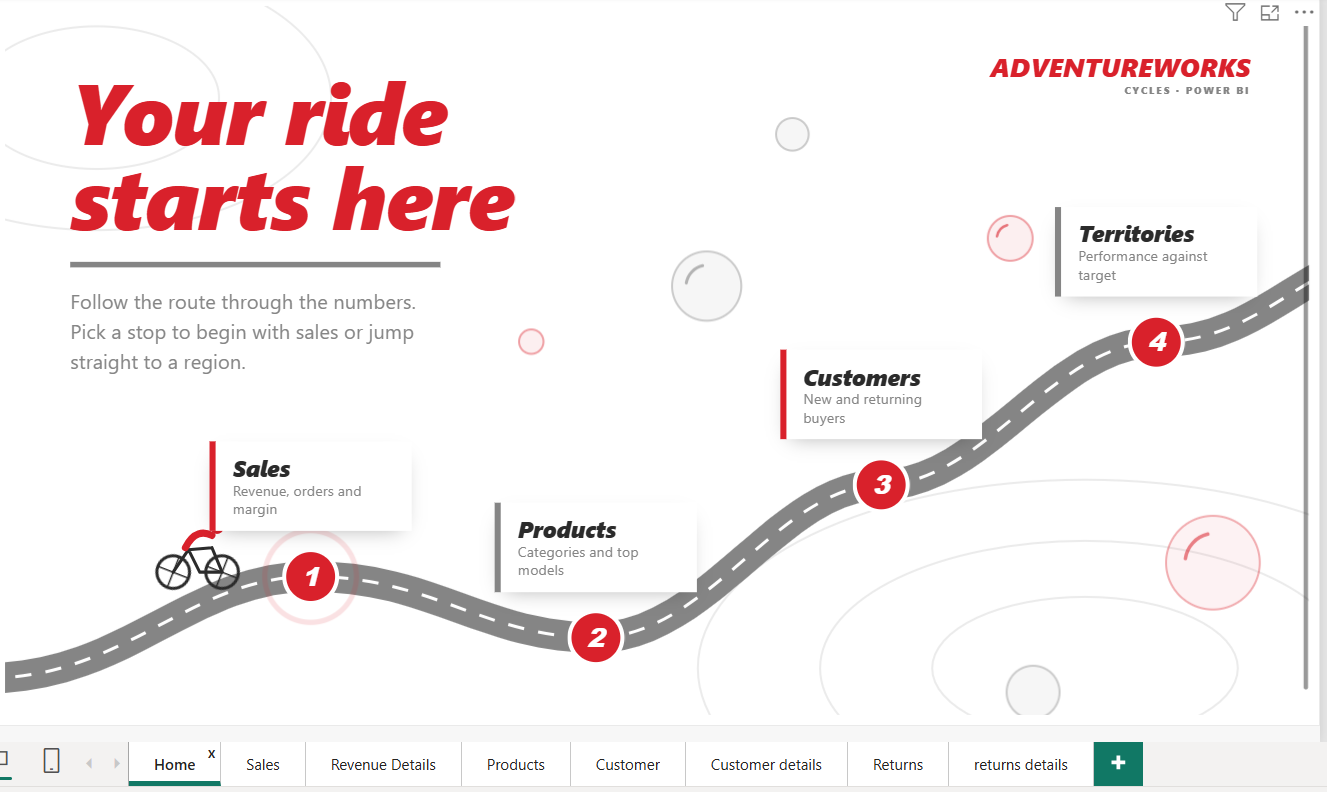

The dashboard page shown, as its layout file describes it:
{"tool":"powerbi","page":{"name":"Home","canvas":[1920,1080],"ordinal":0},"visuals":[{"type":"htmlContent443BE3AD55E043BF878BED274D3A6855","fields":{"content":["Measur.Landing Page HTML"]},"box":[0,0,1920,1056.7],"z":0},{"type":"actionButton","box":[261.7,540,246.7,108.3],"z":1000},{"type":"shape","box":[303.3,636.7,300,141.7],"z":2000},{"type":"shape","box":[721.7,721.7,300,141.7],"z":3000}]}

Visuals, with their boxes on the page's 1920x1080 design canvas (x1, y1, x2, y2). These are canvas units, not pixel positions in the 1327x792 screenshot, which may show the page scaled, cropped or inside an application window:
htmlContent443BE3AD55E043BF878BED274D3A6855 - Measur.Landing Page HTML: bbox(0, 0, 1920, 1057)
actionButton: bbox(262, 540, 508, 648)
shape: bbox(303, 637, 603, 778)
shape: bbox(722, 722, 1022, 863)
